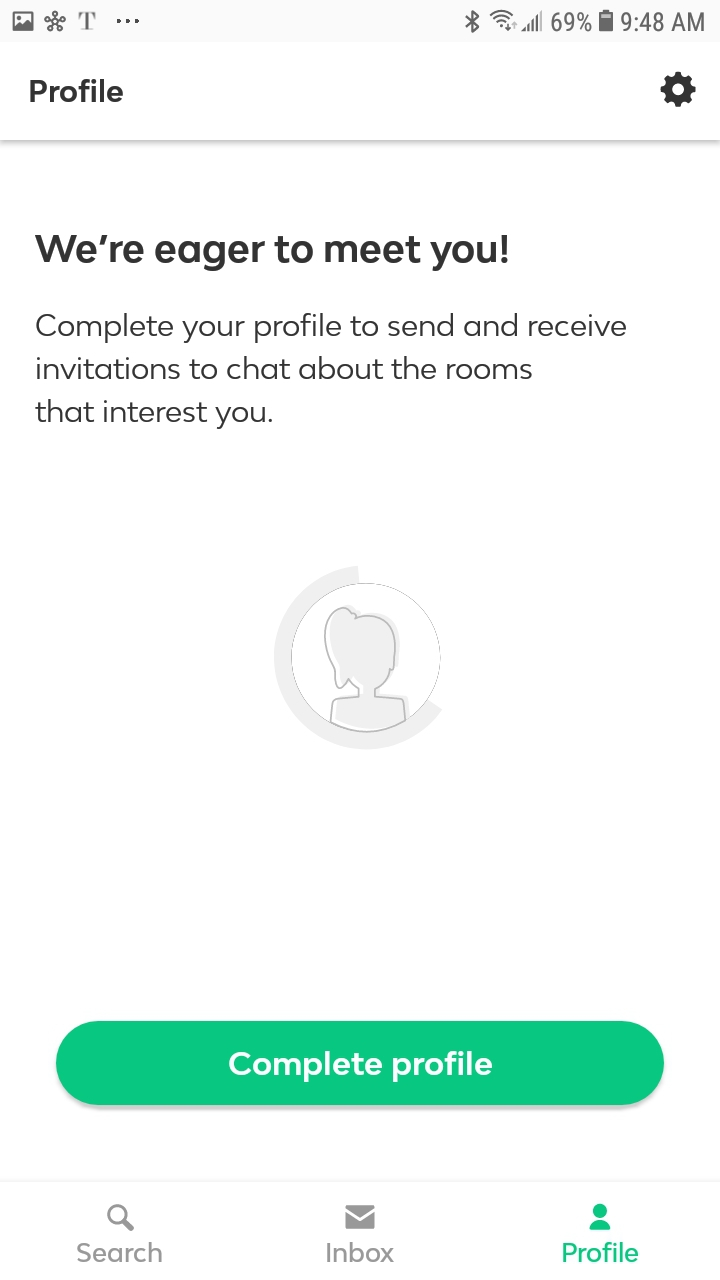Icon: (660, 72, 697, 109), (345, 1204, 376, 1230), (107, 1204, 135, 1232), (589, 1203, 611, 1231)
Image: (273, 565, 444, 751)
Text: (35, 312, 627, 430), (34, 235, 509, 273), (30, 79, 125, 104), (78, 1242, 164, 1263), (563, 1242, 639, 1263), (327, 1241, 395, 1263)
TextButton: (56, 1020, 666, 1106)
UpperTaskBar: (1, 1, 720, 43)
